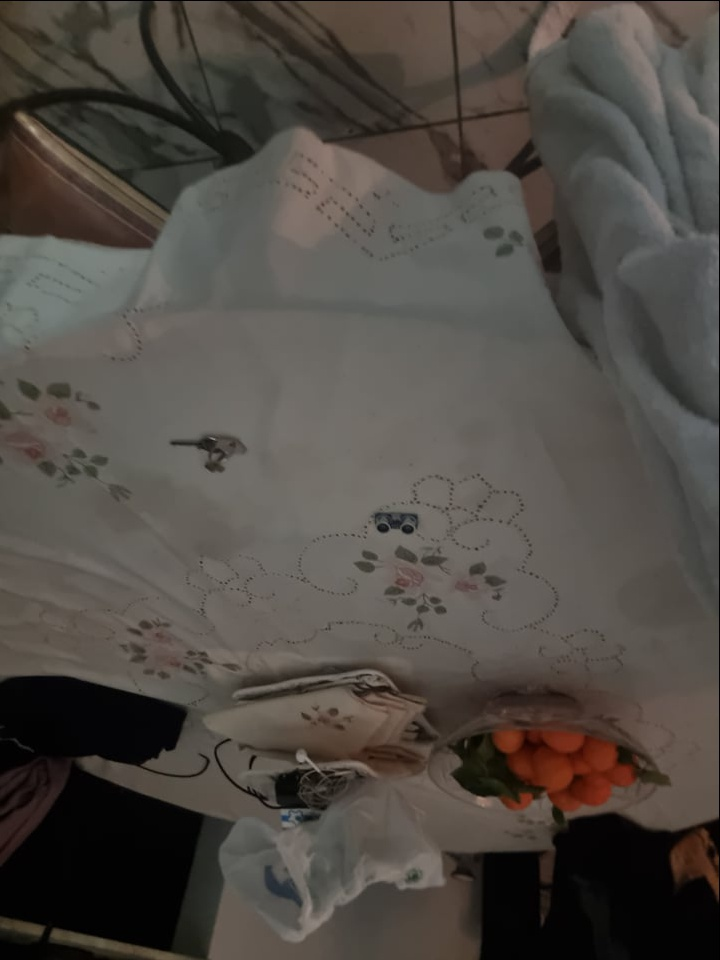SENSOR: (372, 510, 419, 533)
